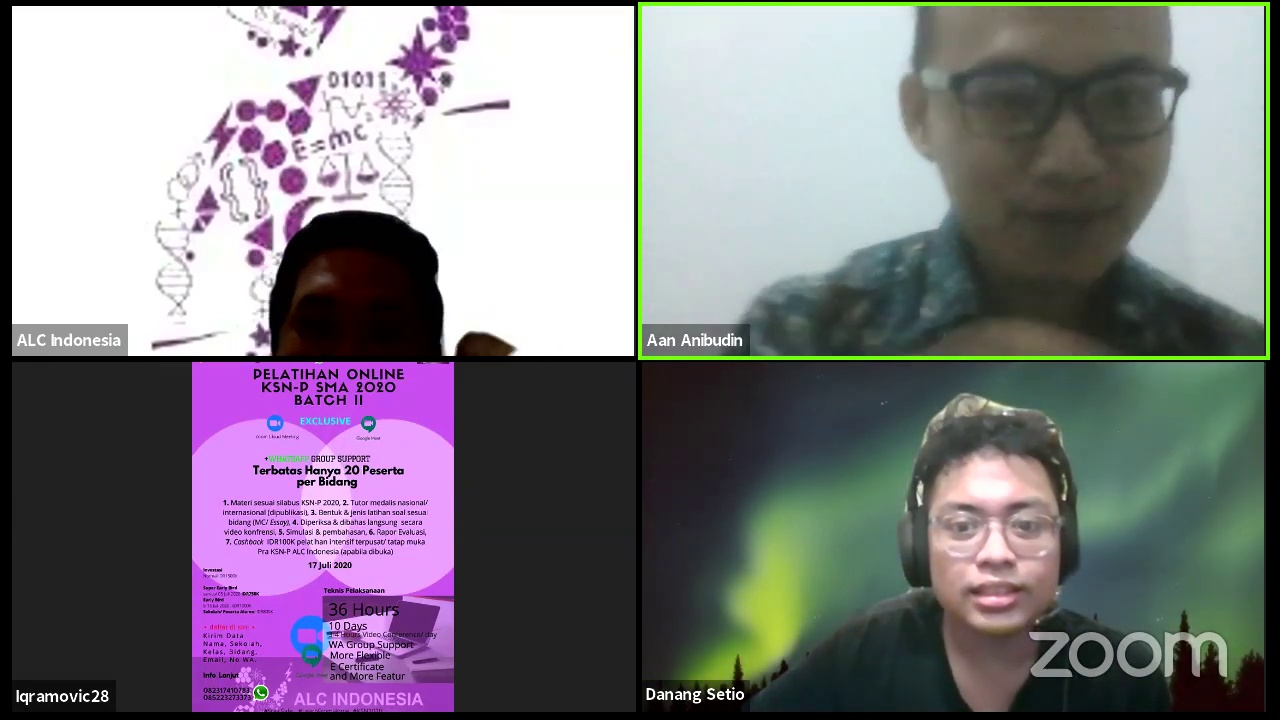Not Distracted: (899, 23, 1190, 274), (899, 411, 1083, 632), (262, 246, 448, 352)
